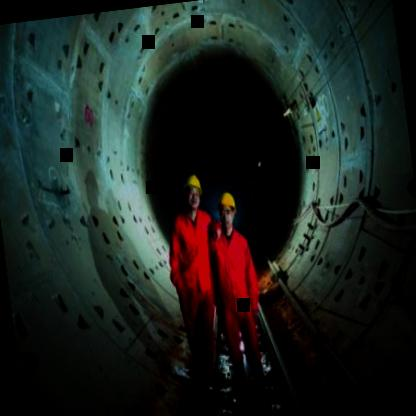helmet: (213, 189, 239, 232), (180, 174, 204, 215)
